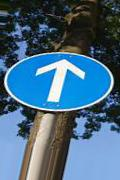forward: (4, 52, 114, 113)
